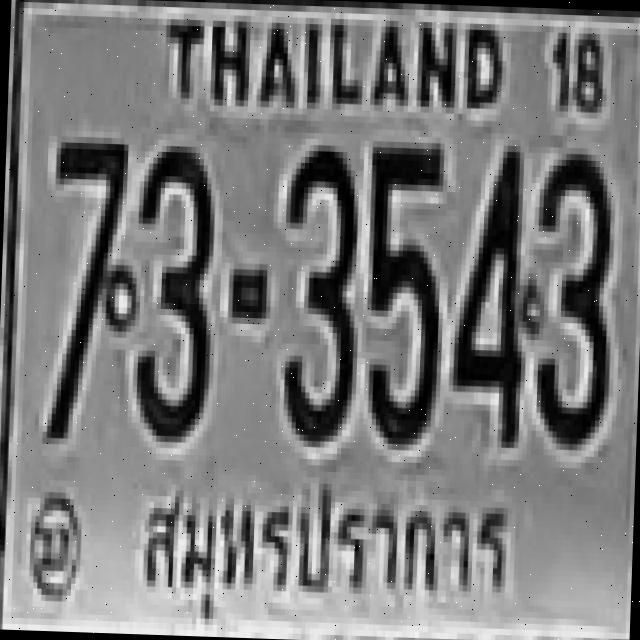3: (128, 139, 214, 437), (526, 150, 612, 442), (278, 144, 360, 442)
4: (446, 138, 528, 442)
5: (358, 138, 444, 442)
7: (42, 136, 124, 440)
SamutPrakan: (129, 476, 529, 630)
